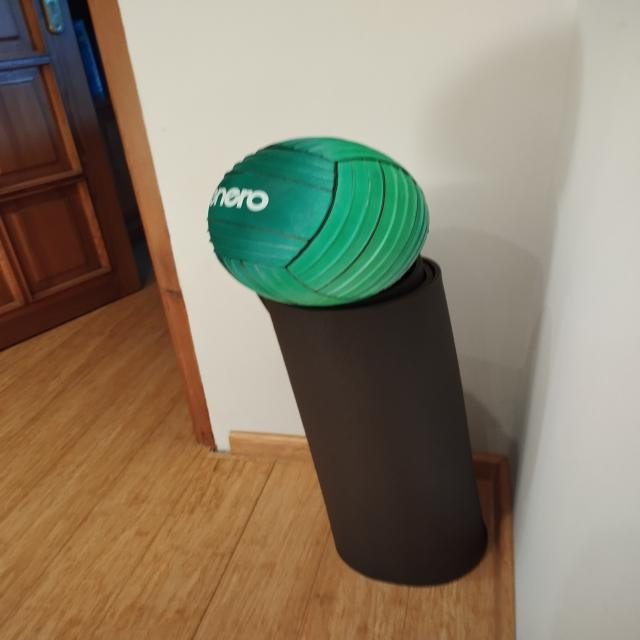zielona: (206, 137, 429, 307)
